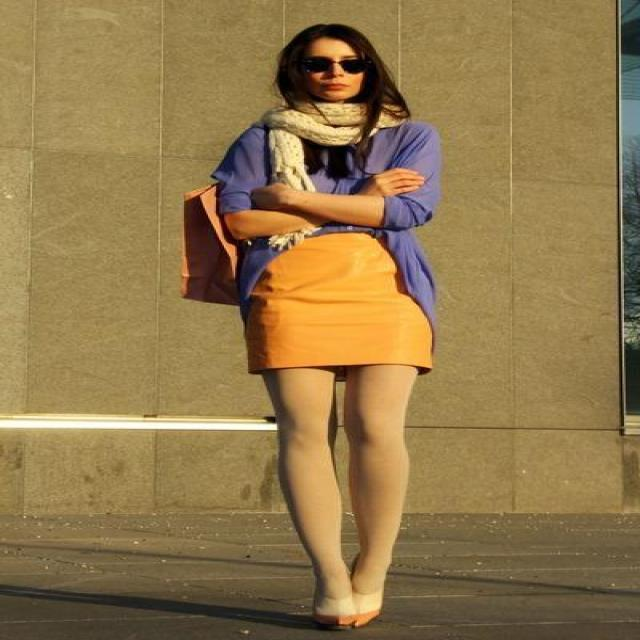bag: (182, 184, 246, 303)
jacket: (211, 116, 442, 310)
shoe: (318, 597, 364, 625)
skirt: (224, 234, 430, 367)
